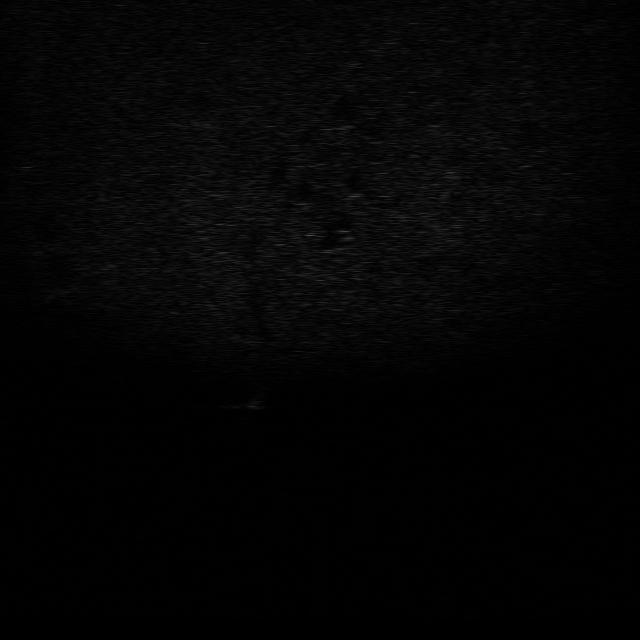human body: (239, 384, 271, 424)
